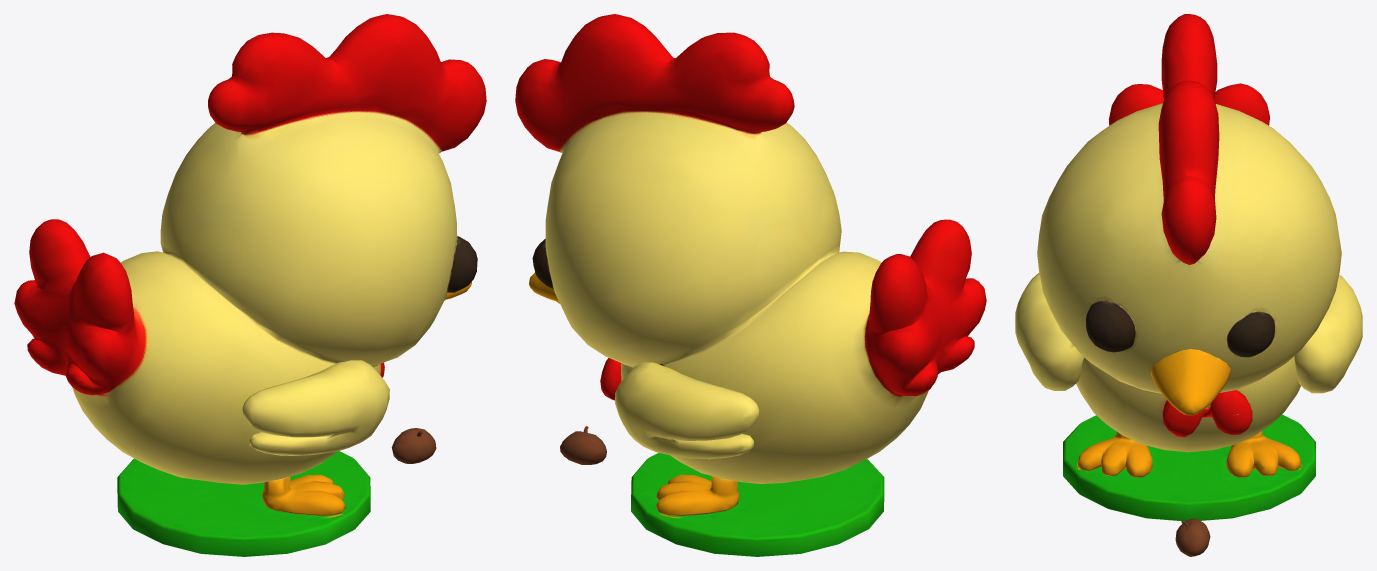
File: BakerCatLoaf_cab3cbd9.glb
3 views of the same model, side by side, from view 1: azimuth 30°, elevation 25°; view 2: azimuth 150°, elevation 25°; view 3: azimuth 270°, elevation 25° (orthographic).
Parts seen in each view (by area): view 1: tripo_node_811d2dfe-7e71-442e-970d-b5a5cab3cbd9; view 2: tripo_node_811d2dfe-7e71-442e-970d-b5a5cab3cbd9; view 3: tripo_node_811d2dfe-7e71-442e-970d-b5a5cab3cbd9.
Boxes of the visible parts, x1=… form: tripo_node_811d2dfe-7e71-442e-970d-b5a5cab3cbd9: x1=14, y1=14, x2=486, y2=556; tripo_node_811d2dfe-7e71-442e-970d-b5a5cab3cbd9: x1=515, y1=14, x2=986, y2=556; tripo_node_811d2dfe-7e71-442e-970d-b5a5cab3cbd9: x1=1015, y1=14, x2=1362, y2=556.
Size of the model in its own units: 0.9824 by 0.998 by 0.6816.
1 material, 1 textured.
